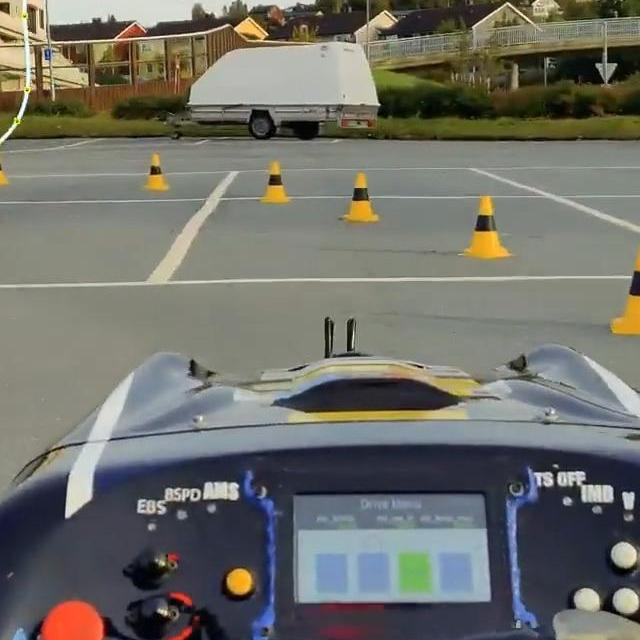Safety Cone: (466, 191, 513, 260), (615, 241, 640, 338), (342, 171, 377, 225), (142, 149, 175, 195), (262, 159, 289, 208), (0, 150, 10, 187)
trailer: (157, 42, 382, 143)
vehicle: (0, 324, 640, 640)
